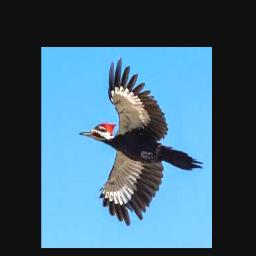Woodpecker: (79, 56, 203, 226)
